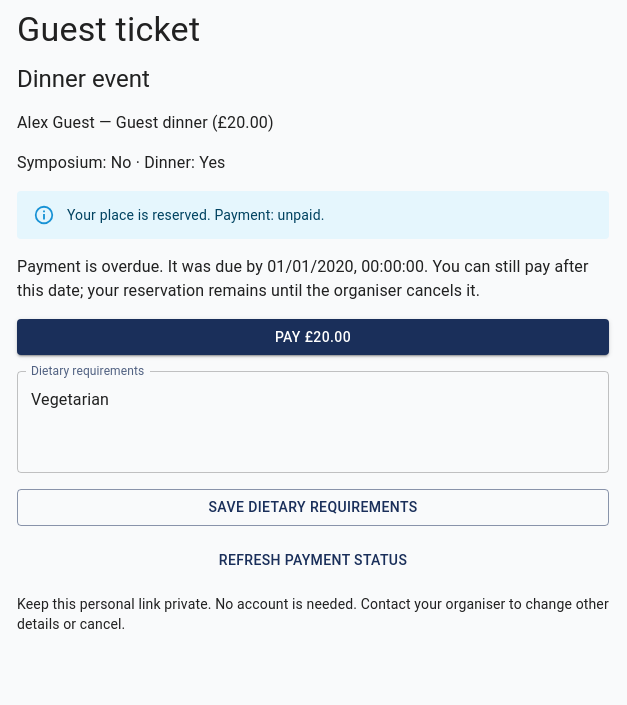
Scenario: account-free guest ticket › loads using the fragment token without login and submits only dietary changes
The width and height of the screenshot is (627, 705).
Expected: the heading "Dinner event" is shown, [17,65,150,93]
Replace the text in the text box labelled "Dietary requirements" with "Vegan" at (313, 422), box [31,388,595,457]
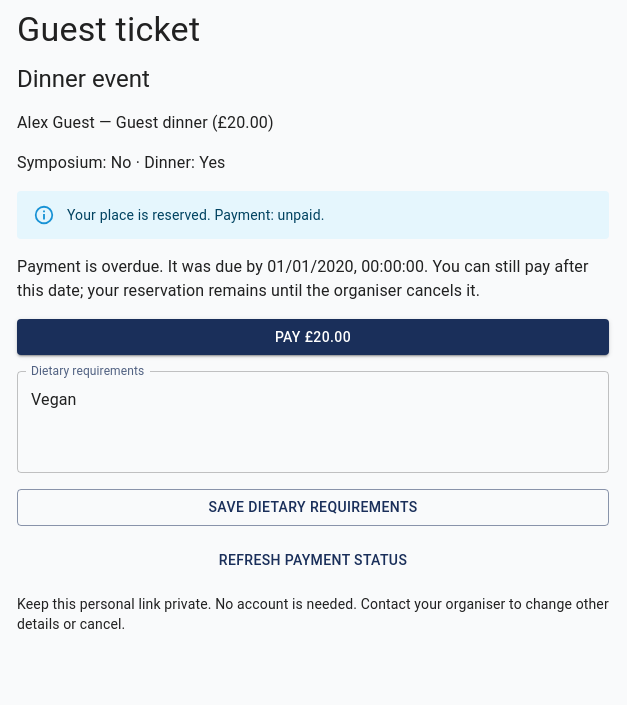
Click the button "Save dietary requirements".
click(313, 508)  # box [17,489,609,526]
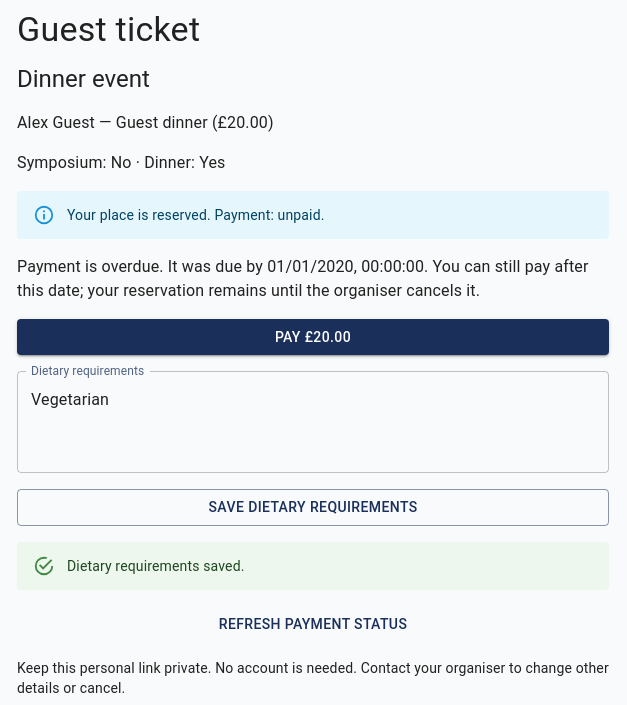
Expected: the text "Dietary requirements saved." is shown, [67,558,244,574]
